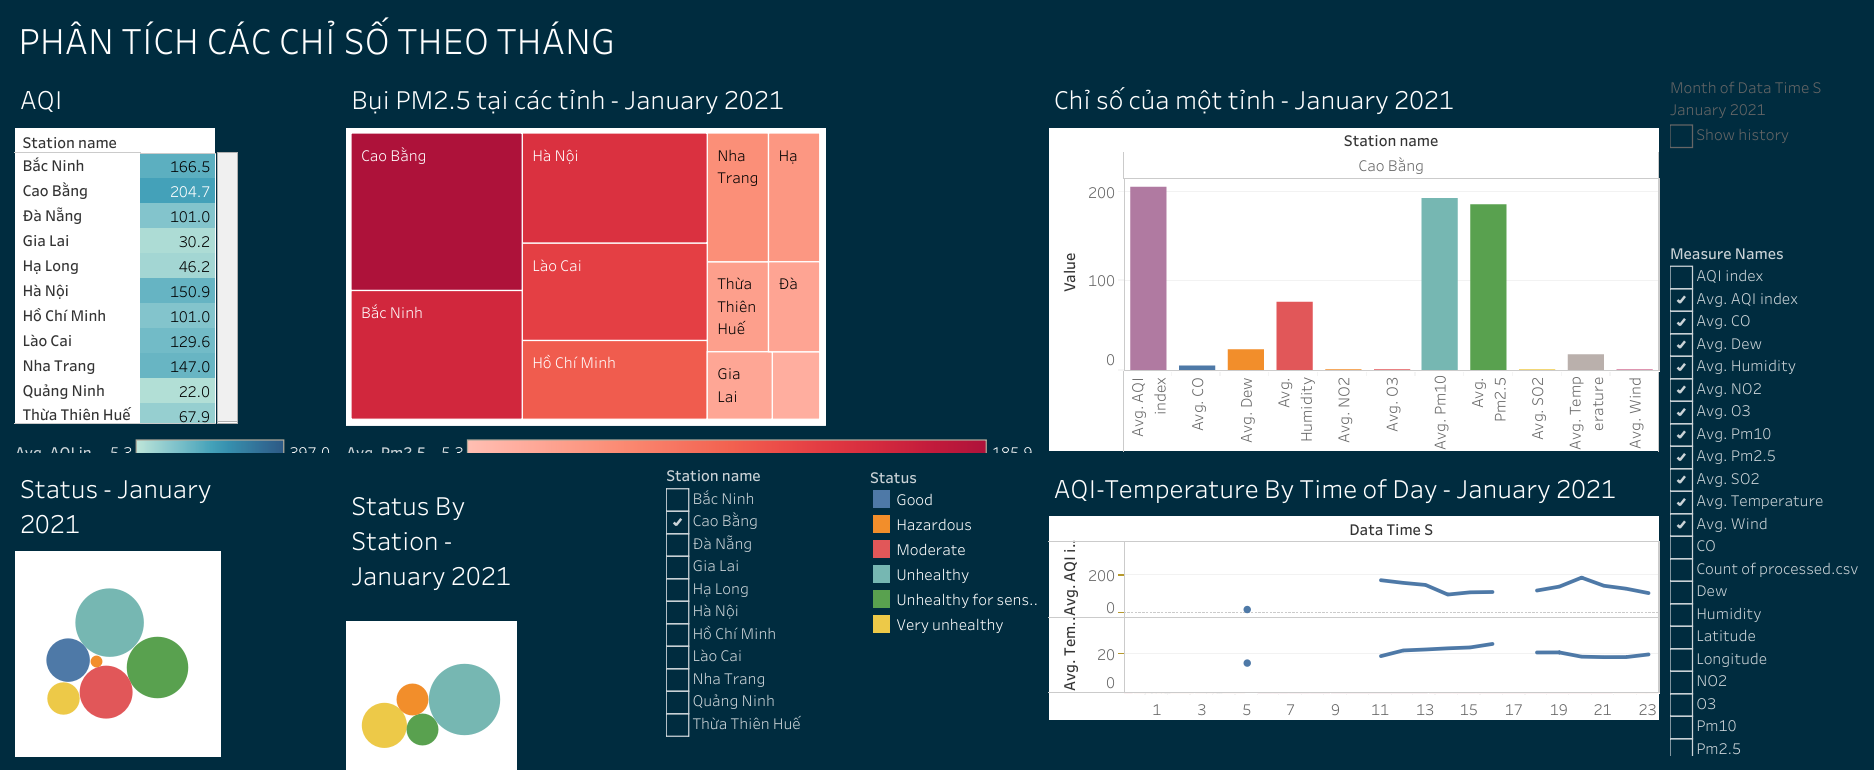

Layout of this report page (visuals, bound fields, positions):
{"tool":"tableau","page":{"name":"Dashboard 2","canvas":[1000,1000],"units":"permille","ordinal":1},"visuals":[{"type":"title","box":[5.3,9.3,989.3,66.1]},{"type":"worksheet","title":"AQI","mark":"Square","rows":["Station name"],"box":[5.3,75.4,176.7,476.8]},{"type":"worksheet","title":"Bụi PM2.5 tại các tỉnh","mark":"Automatic","box":[182,75.4,374.7,476.8]},{"type":"worksheet","title":"Chỉ số của một tỉnh","mark":"Bar","cols":["Station name"],"box":[556.7,75.4,331.3,513.9]},{"type":"currpage","title":"AQI","box":[888,75.4,106.7,138.1]},{"type":"filter","title":"Chỉ số của một tỉnh","param":"[federated.0b1802w14383gx1610fme0qfgjj6].[:Measure Names]","box":[888,213.5,106.7,762.2]},{"type":"legend","title":"AQI","param":"[federated.0b1802w14383gx1610fme0qfgjj6].[avg:AQI index:qk]","box":[5.3,552.2,176.7,37.1]},{"type":"legend","title":"Bụi PM2.5 tại các tỉnh","param":"[federated.0b1802w14383gx1610fme0qfgjj6].[avg:PM2.5:qk]","box":[182,552.2,374.7,37.1]},{"type":"worksheet","title":"Status","mark":"Circle","box":[5.3,589.3,176.6,401.4]},{"type":"worksheet","title":"Status By Station","mark":"Circle","box":[182,589.3,170.7,401.4]},{"type":"filter","title":"Chỉ số của một tỉnh","param":"[federated.0b1802w14383gx1610fme0qfgjj6].[none:Station name:nk]","box":[352.7,589.3,108,401.4]},{"type":"legend","title":"Status","param":"[federated.0b1802w14383gx1610fme0qfgjj6].[none:Status:nk]","box":[460.7,589.3,96.3,401.4]},{"type":"worksheet","title":"AQI-Temperature By Time of Day","mark":"Automatic","rows":["AQI index","Temperature"],"cols":["Data Time S"],"box":[557,589.3,331,401.4]}]}

Visuals, with their boxes on the dashboard's canvas, which has no fixed pixel size, in thousandths of its width and height (x1, y1, x2, y2). These are canvas units, not pixel positions in the 1874x770 screenshot, which may show the page scaled, cropped or inside an application window:
title: box(5, 9, 995, 75)
"AQI" worksheet (Square marks): box(5, 75, 182, 552)
"Bụi PM2.5 tại các tỉnh" worksheet: box(182, 75, 557, 552)
"Chỉ số của một tỉnh" worksheet (Bar marks): box(557, 75, 888, 589)
"AQI" currpage: box(888, 75, 995, 214)
"Chỉ số của một tỉnh" filter: box(888, 214, 995, 976)
"AQI" legend: box(5, 552, 182, 589)
"Bụi PM2.5 tại các tỉnh" legend: box(182, 552, 557, 589)
"Status" worksheet (Circle marks): box(5, 589, 182, 991)
"Status By Station" worksheet (Circle marks): box(182, 589, 353, 991)
"Chỉ số của một tỉnh" filter: box(353, 589, 461, 991)
"Status" legend: box(461, 589, 557, 991)
"AQI-Temperature By Time of Day" worksheet: box(557, 589, 888, 991)
